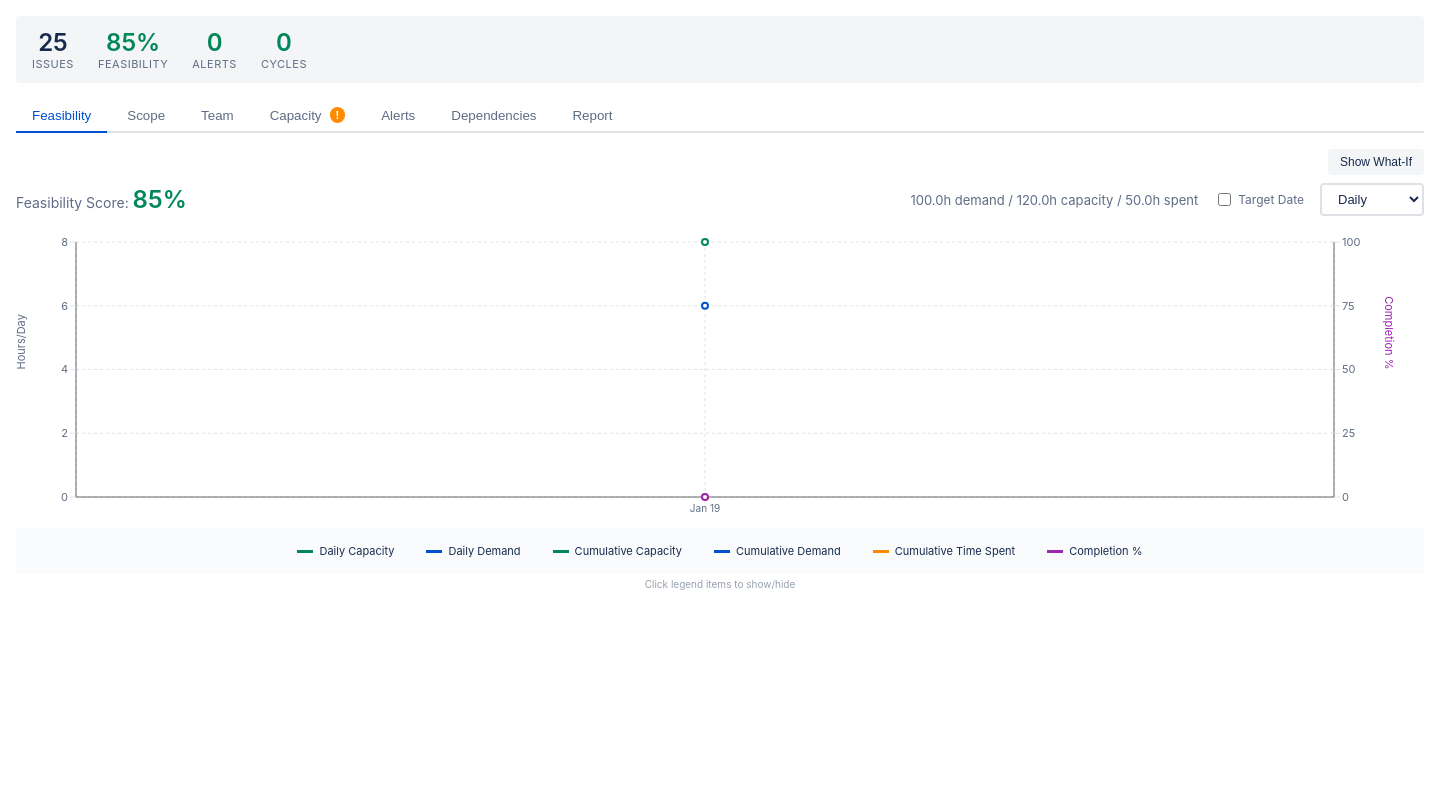
Test case: App › switches to Dependencies tab when clicked
Note: Click on Dependencies tab
Click the button "Dependencies": (494, 115) [435,99,552,131]
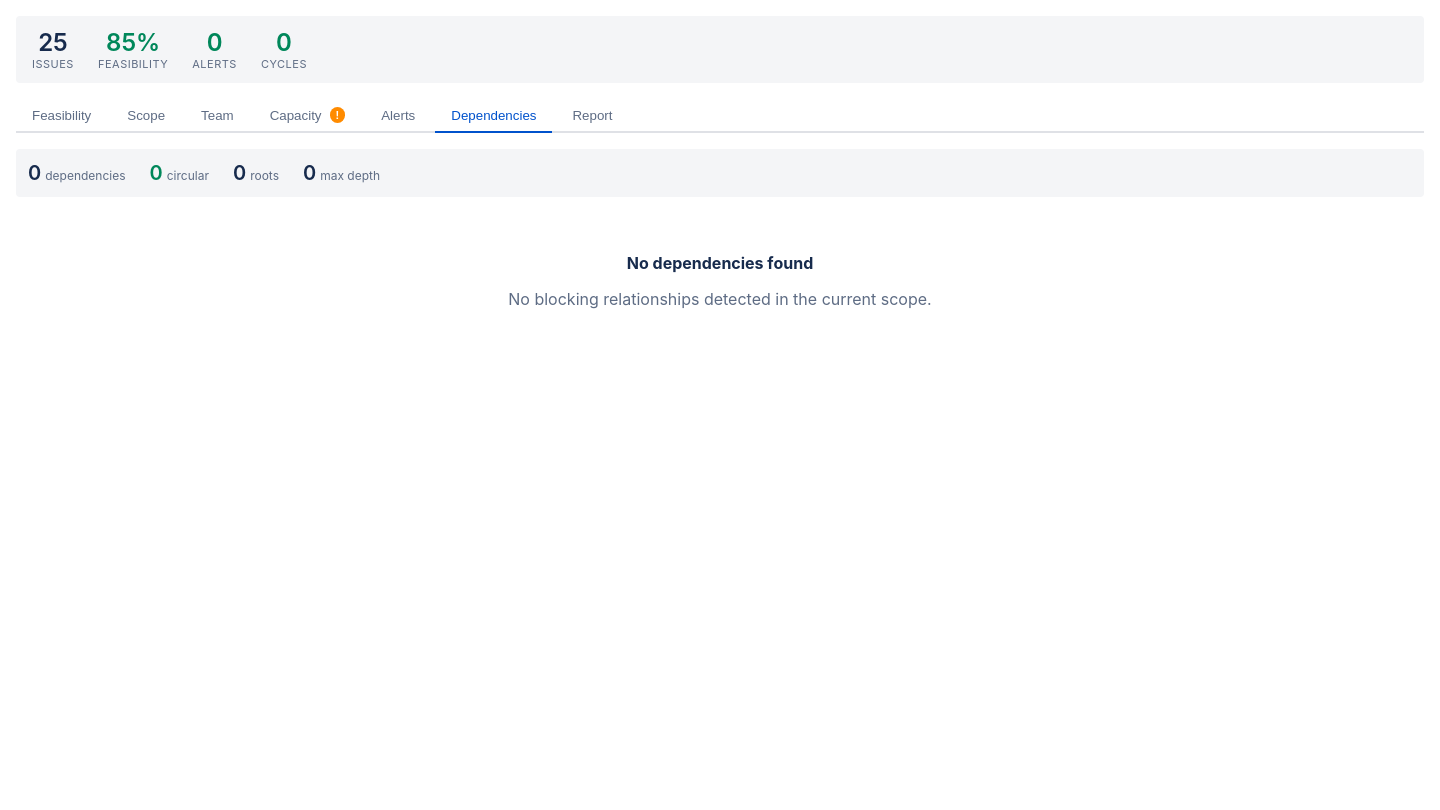
Now the text "dependencies" is shown, box [45,168,126,183]
